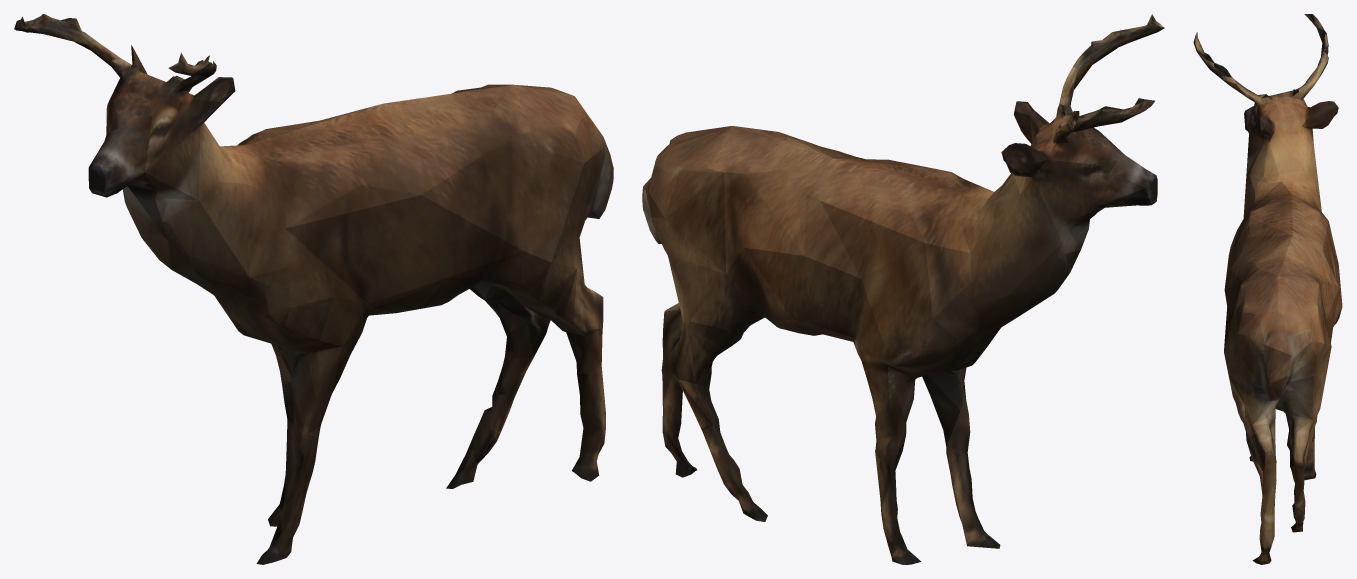
The model's file is chinkara.fbx.
3 views of the same model, side by side, from view 1: azimuth 30°, elevation 25°; view 2: azimuth 150°, elevation 25°; view 3: azimuth 270°, elevation 25° (orthographic). The views are drawn at different scales.
Visible parts, largest first — view 1: chinkara; view 2: chinkara; view 3: chinkara.
Boxes of the visible parts, x1,y1,x2,y2 form: chinkara: [14, 14, 613, 564]; chinkara: [642, 14, 1164, 564]; chinkara: [1193, 14, 1342, 564].
Bounding box in the file's own units: 128 × 123 × 43.09.
